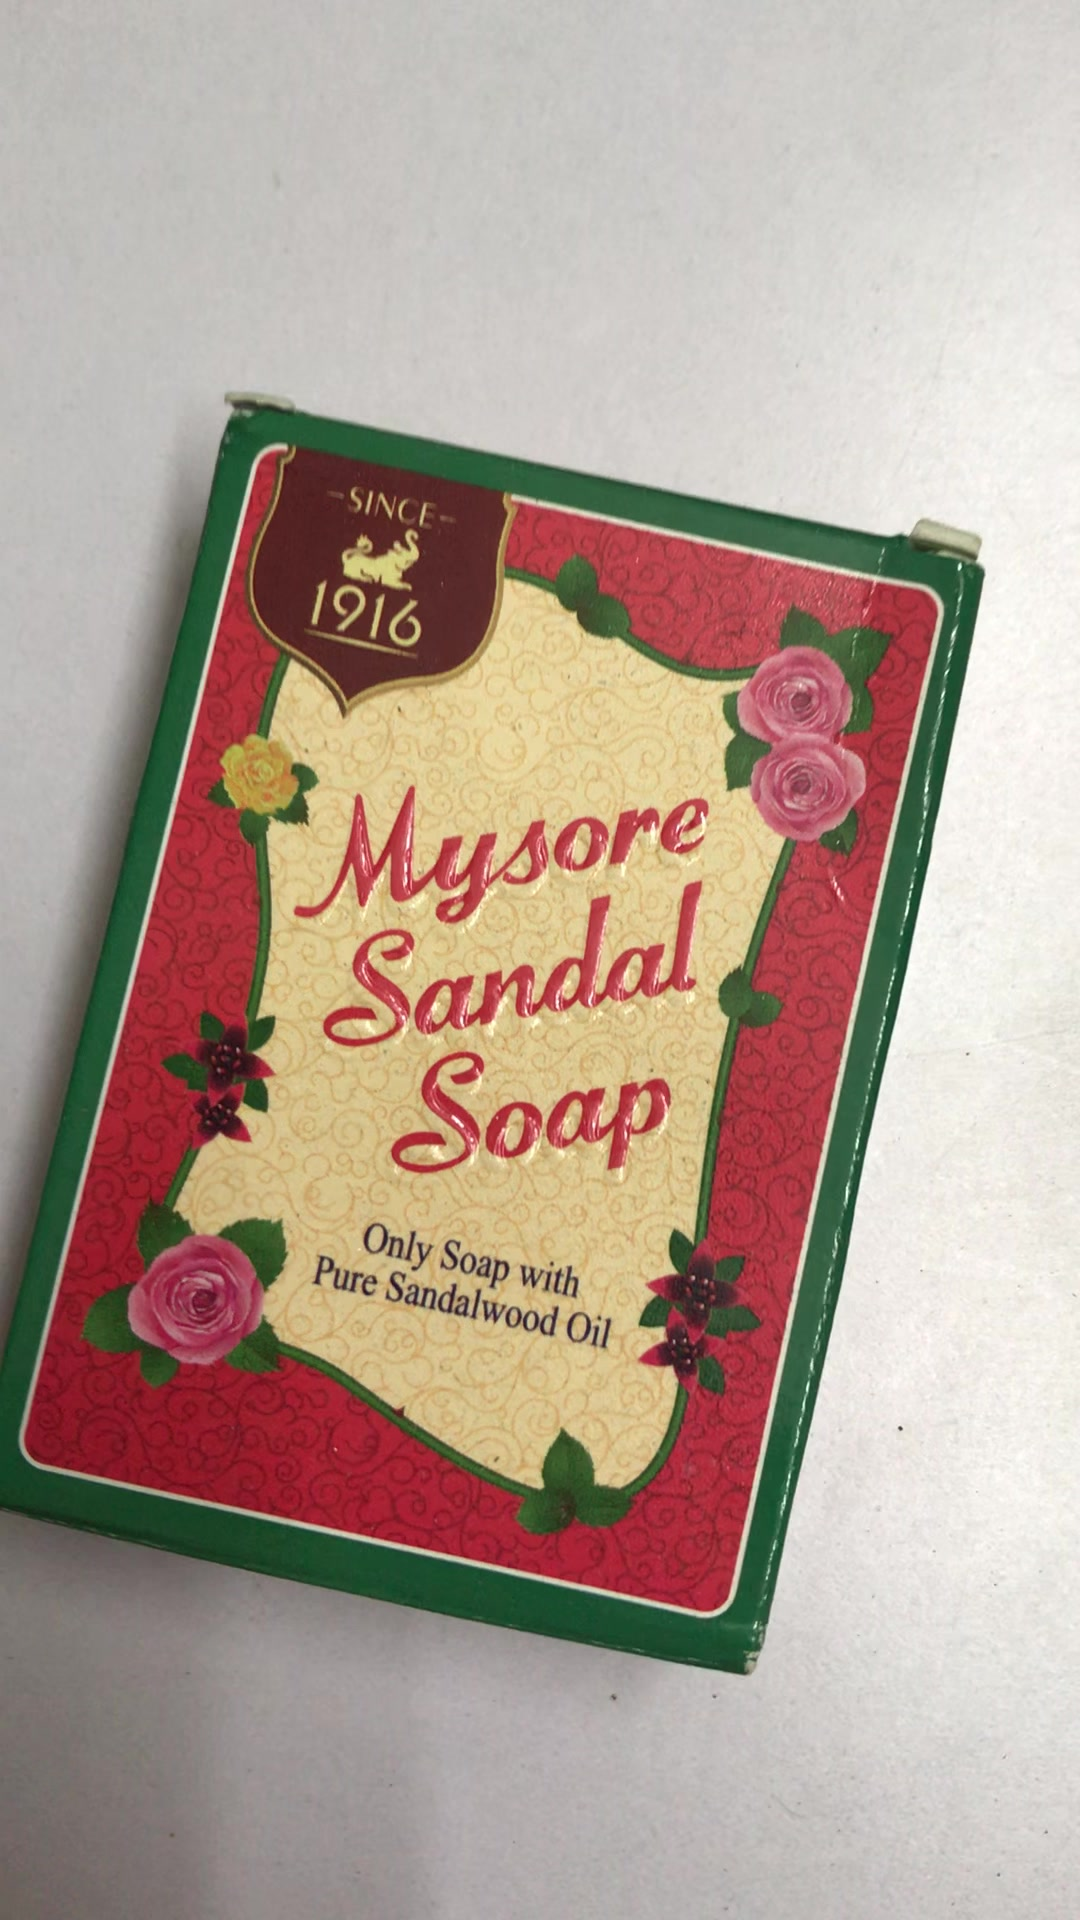mysore sandal soap: (5, 396, 990, 1671)
